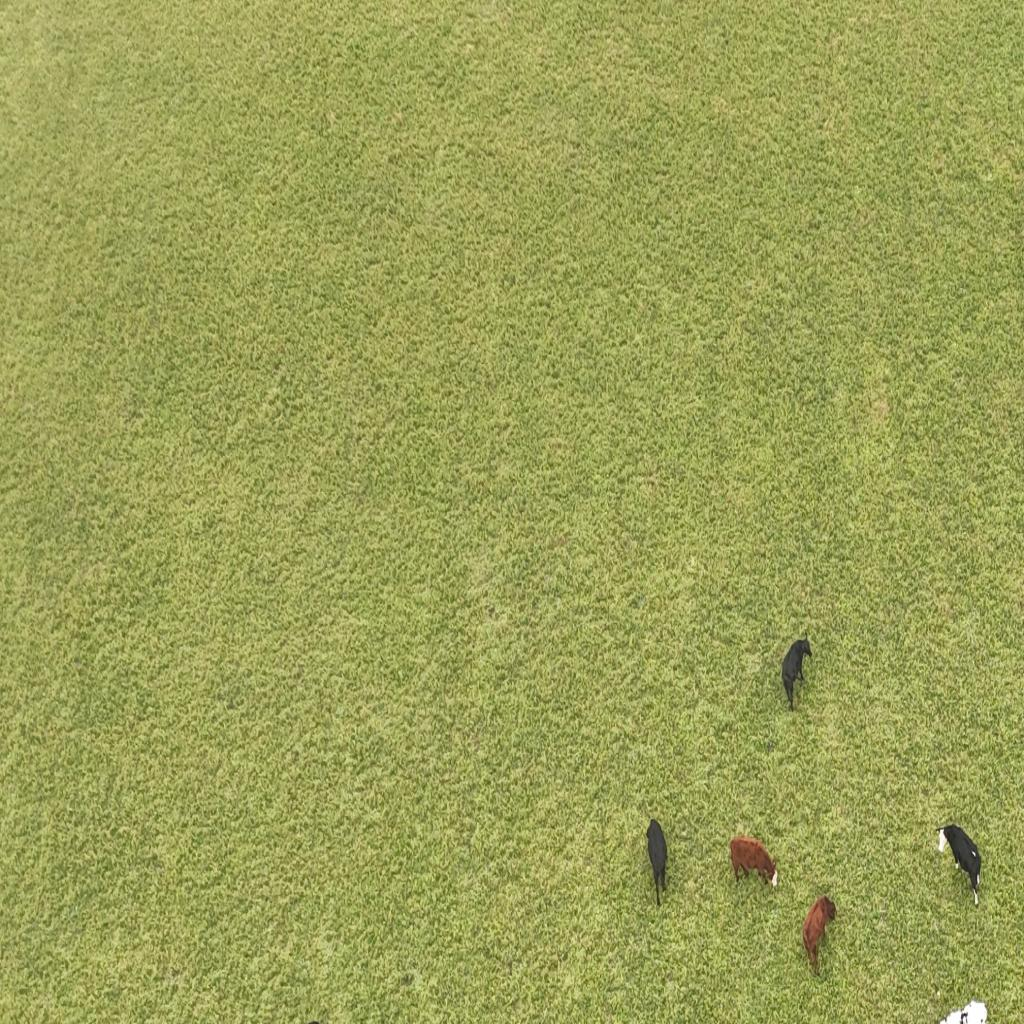cow: (934, 821, 984, 905), (727, 832, 779, 891), (801, 896, 837, 980), (780, 633, 815, 708), (646, 815, 669, 902), (938, 993, 994, 1024)
